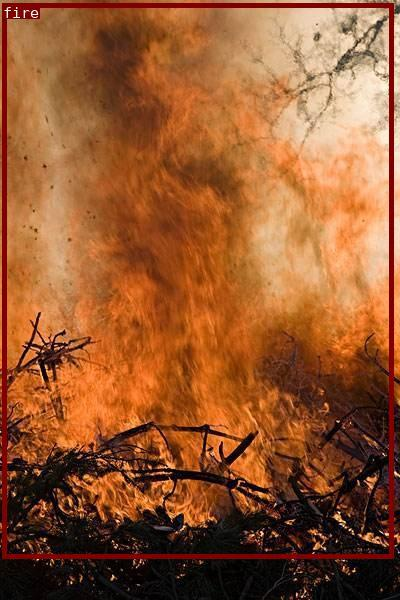fire: (2, 3, 393, 558)
